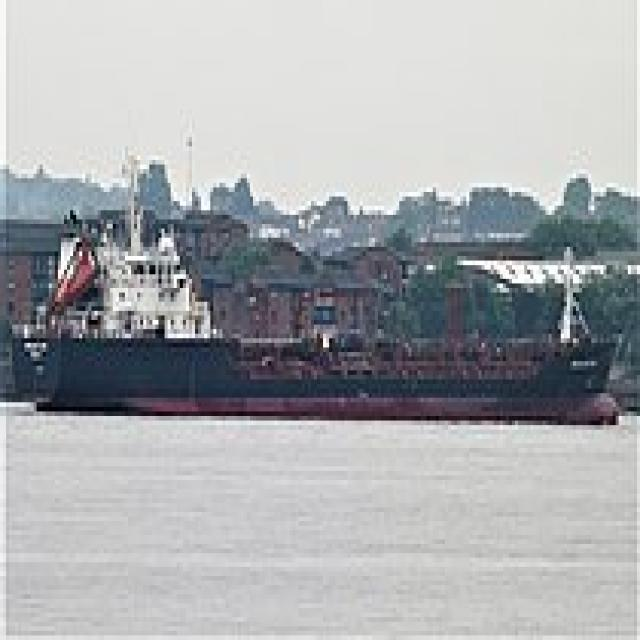Tanker: (12, 174, 625, 416)
